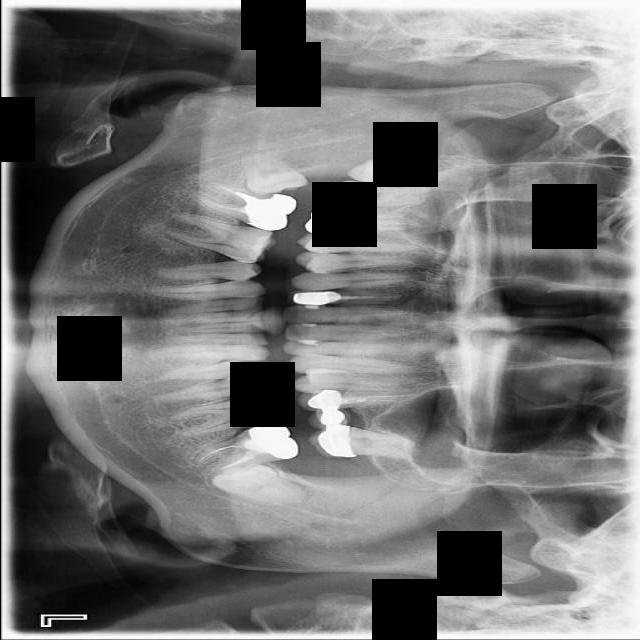3M ESPE Implant: (345, 157, 438, 186)
52: (295, 384, 356, 465), (234, 178, 300, 241), (239, 410, 302, 476), (210, 221, 278, 267), (225, 391, 285, 431), (319, 169, 365, 216), (303, 203, 350, 239), (280, 305, 339, 324), (283, 323, 336, 342), (286, 290, 339, 306), (282, 339, 328, 355)
73: (189, 429, 262, 490), (192, 177, 258, 222), (336, 205, 429, 236), (337, 391, 425, 410), (325, 291, 404, 305), (22, 624, 33, 632)
BioHorizons Implant: (307, 424, 424, 462)
Biomet 3i Implant: (209, 456, 312, 513)
Blue Sky Bio Implant: (187, 416, 300, 483)
Caries: (319, 178, 434, 210)
Implant: (186, 177, 298, 236)
Keystone Dental Implant: (236, 140, 309, 202)
